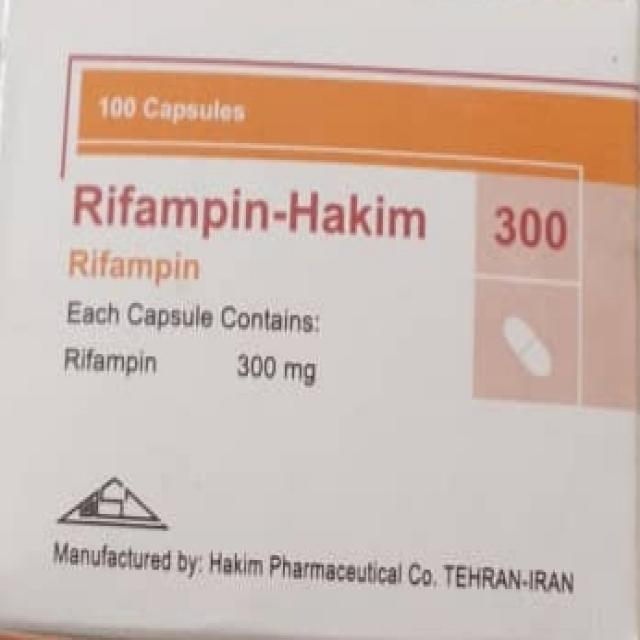drug-name: (71, 182, 433, 246)
